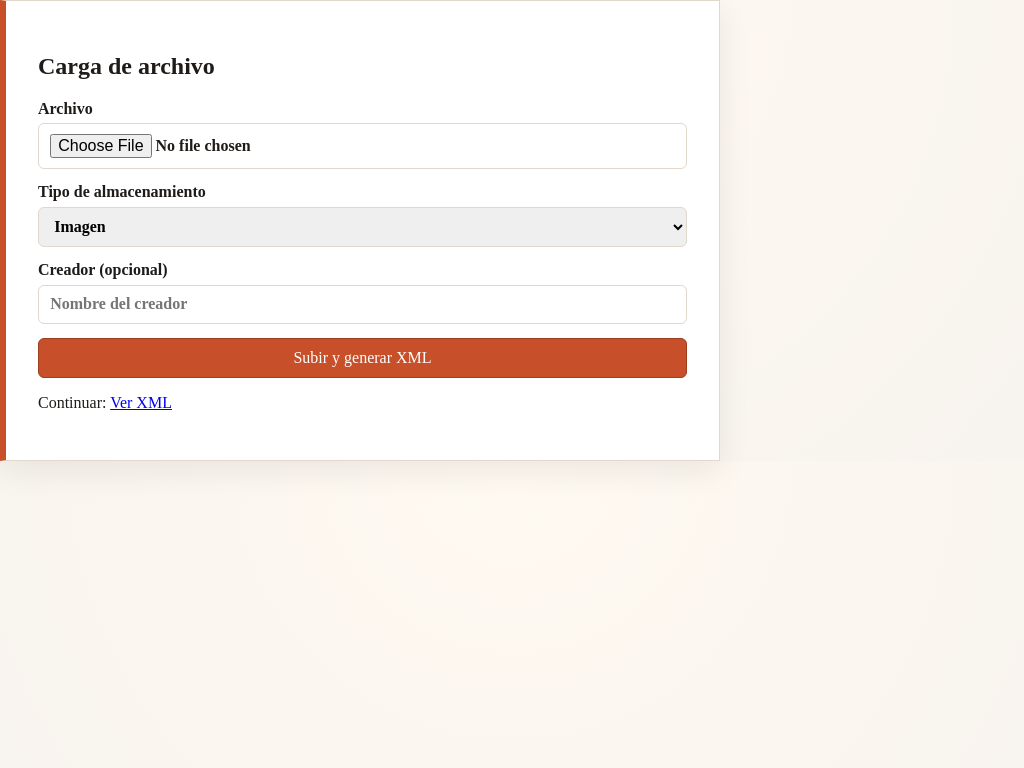
Test: UploadPage › muestra error si no hay archivo al enviar
Click the button "Subir y generar XML" at (362, 358), box 38,338 -> 687,378
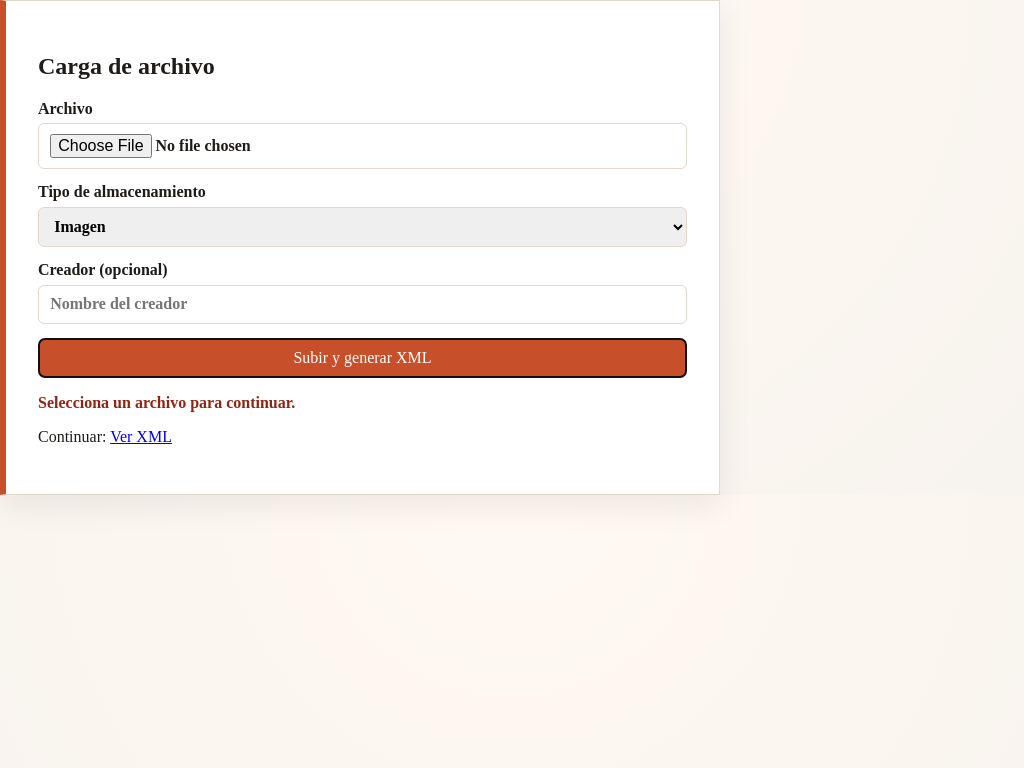
Result: the text "Selecciona un archivo para continuar." is shown at 38,394 -> 295,410
